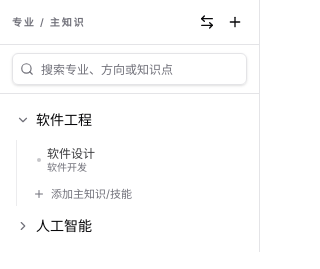
MajorDirectionSidebar › switches to direction grouping from the title row toggle
This screenshot has width=320, height=269.
Click the button named "切换为专业/方向/主知识".
click(207, 22)  # box [195,10,219,34]
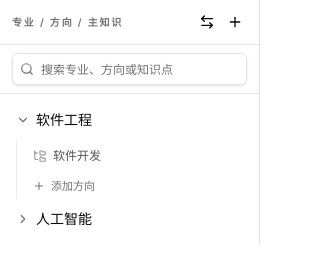
Check: the button "软件开发" is shown, box [25,140,251,172]
Check: the text "专业 / 方向 / 主知识" is shown, box [12,14,123,30]
Check: the button "软件设计" is gone
